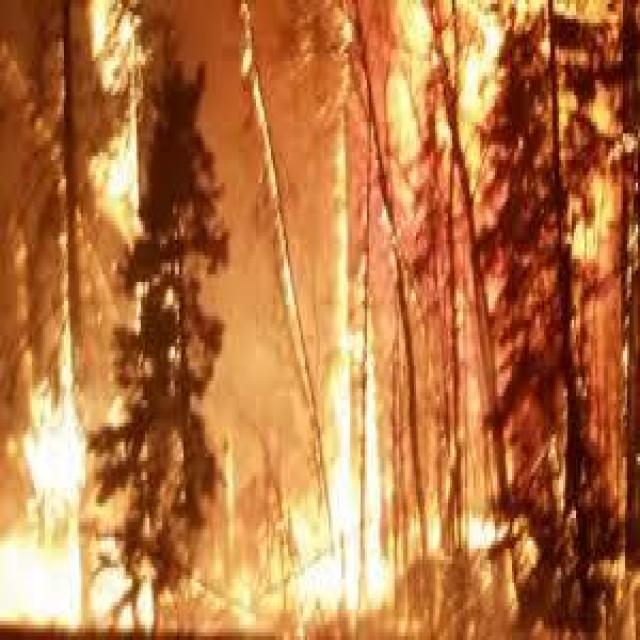fire: (273, 13, 514, 640), (7, 363, 150, 640), (57, 6, 171, 302)
